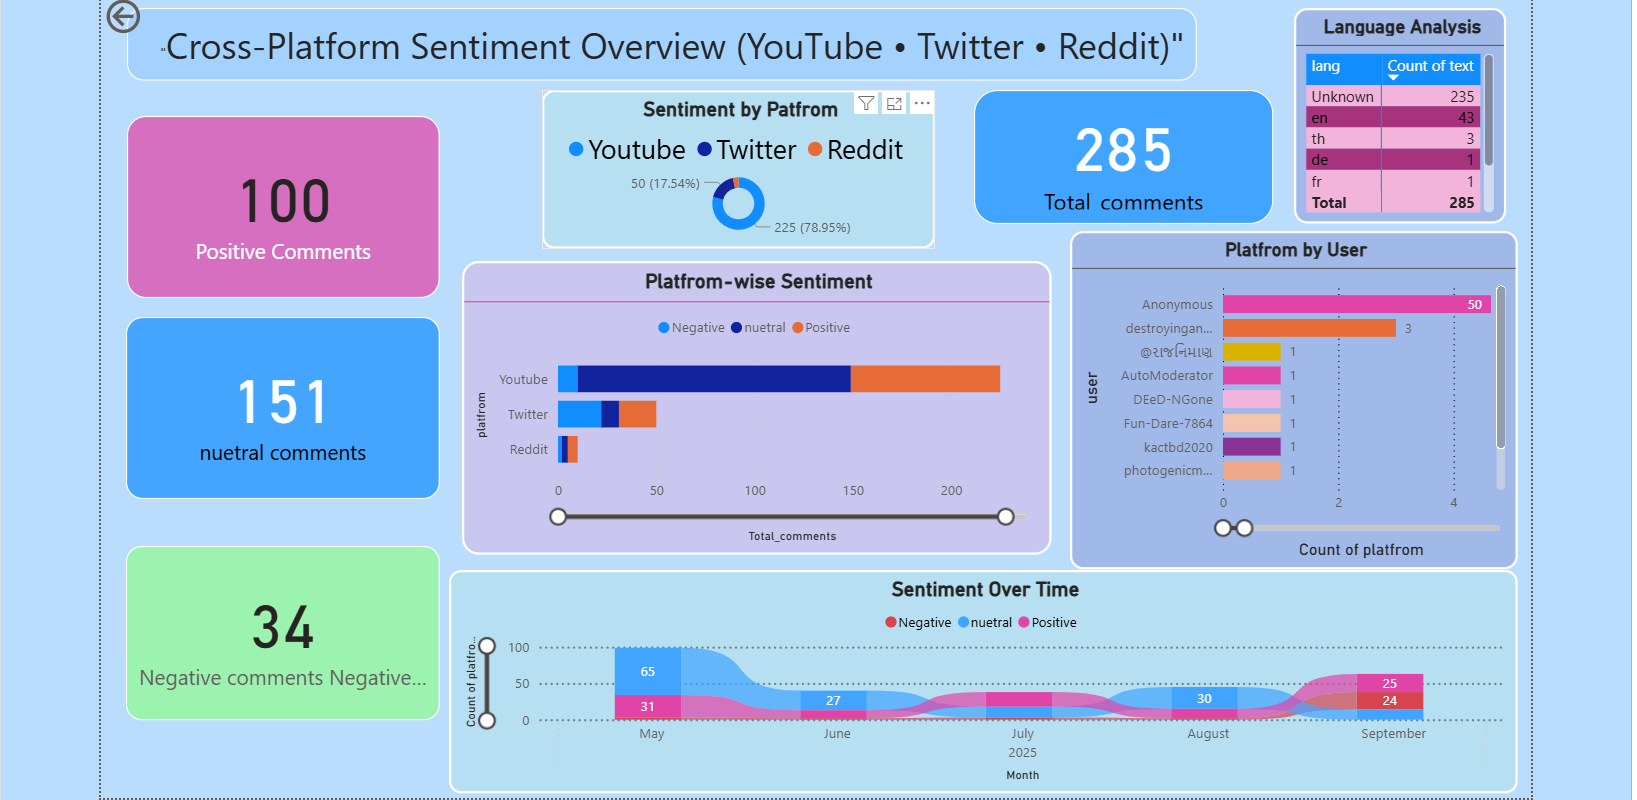

This screenshot's page, from the dashboard's own definition file:
{"tool":"powerbi","page":{"name":"Page 1","canvas":[1280,720],"ordinal":0},"visuals":[{"type":"card","fields":{"Values":["social_media_sentiment.Positive Comments"]},"box":[23.1,109.6,279.8,163.5],"z":0},{"type":"card","fields":{"Values":["social_media_sentiment.Negative comments Negative Comments"]},"box":[22.1,494.3,280.8,155.8],"z":1000},{"type":"card","fields":{"Values":["social_media_sentiment.nuetral comments"]},"box":[22.1,289.5,280.8,163.5],"z":2000},{"type":"donutChart","title":"Sentiment by Patfrom","fields":{"Category":["social_media_sentiment.platfrom"],"Y":["CountNonNull(social_media_sentiment.sentiment)"]},"box":[395.3,85.6,352,142.3],"z":3000},{"type":"barChart","title":"Platfrom-wise Sentiment","fields":{"Category":["social_media_sentiment.platfrom"],"Y":["social_media_sentiment.Total_comments"],"Series":["social_media_sentiment.sentiment"]},"box":[323.1,239.5,528,262.5],"z":4000},{"type":"clusteredBarChart","title":"Platfrom by User","fields":{"Category":["social_media_sentiment.user"],"Y":["CountNonNull(social_media_sentiment.platfrom)"]},"box":[867.4,212.5,401,302.9],"z":5000},{"type":"pivotTable","title":"Language Analysis","fields":{"Rows":["social_media_sentiment.lang"],"Values":["CountNonNull(social_media_sentiment.text)"]},"box":[1068.4,12.5,190.4,193.3],"z":6000},{"type":"ribbonChart","title":"Sentiment Over Time","fields":{"Category":["social_media_sentiment.created_at_date.Variation.Date Hierarchy.Year","social_media_sentiment.created_at_date.Variation.Date Hierarchy.Month","social_media_sentiment.created_at_date.Variation.Date Hierarchy.Day"],"Y":["CountNonNull(social_media_sentiment.platfrom)"],"Series":["social_media_sentiment.sentiment"]},"box":[311.6,515.5,956.9,200],"z":7000},{"type":"card","fields":{"Values":["social_media_sentiment.Total_comments"]},"box":[781.8,85.6,268.3,120.2],"z":8000},{"type":"textbox","box":[23.1,12.5,957.8,65.4],"z":9000},{"type":"actionButton","box":[0,0,100,40],"z":9001}]}

Visuals, with their boxes on the page's 1280x720 design canvas (x1, y1, x2, y2). These are canvas units, not pixel positions in the 1637x800 screenshot, which may show the page scaled, cropped or inside an application window:
card - social_media_sentiment.Positive Comments: 23 110 303 273
card - social_media_sentiment.Negative comments Negative Comments: 22 494 303 650
card - social_media_sentiment.nuetral comments: 22 290 303 453
"Sentiment by Patfrom" donutChart: 395 86 747 228
"Platfrom-wise Sentiment" barChart: 323 240 851 502
"Platfrom by User" clusteredBarChart: 867 212 1268 515
"Language Analysis" pivotTable: 1068 12 1259 206
"Sentiment Over Time" ribbonChart: 312 516 1268 716
card - social_media_sentiment.Total_comments: 782 86 1050 206
textbox: 23 12 981 78
actionButton: 0 0 100 40
